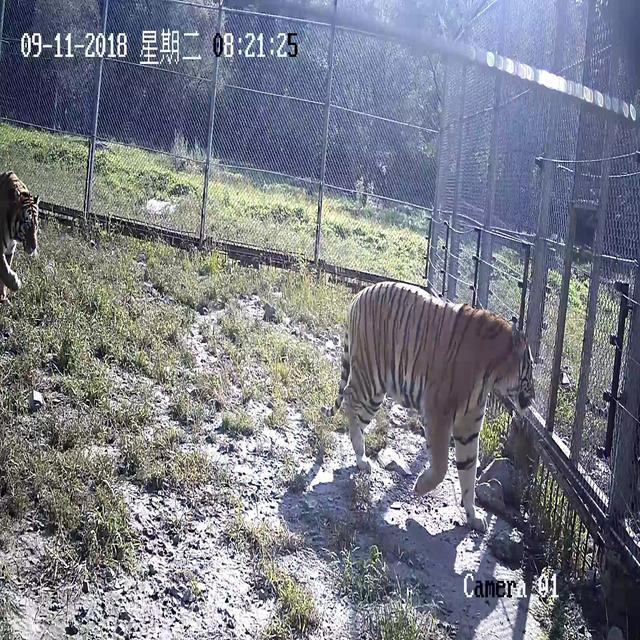tiger: (333, 279, 536, 533), (0, 169, 40, 299)
